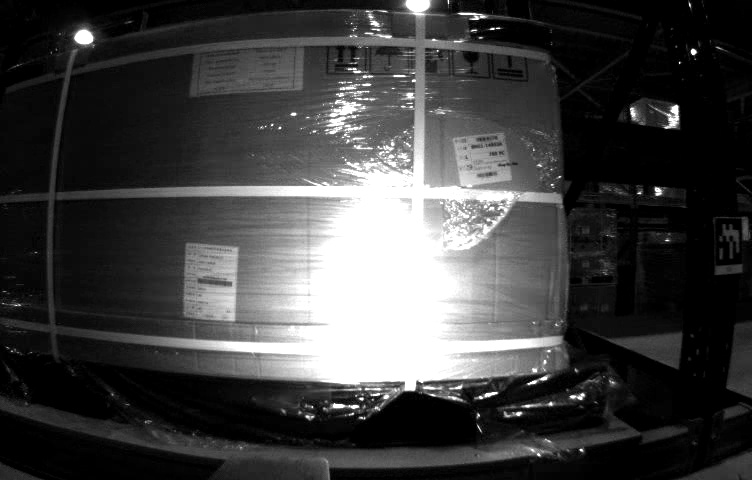True Barcode: (452, 132, 513, 190)
